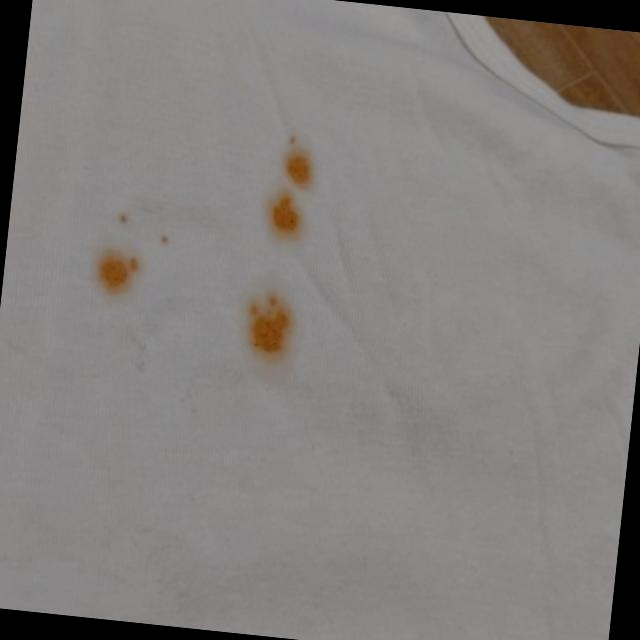kimchi: (87, 241, 152, 308), (244, 290, 297, 369), (283, 128, 325, 185), (266, 188, 307, 244), (107, 204, 136, 227), (158, 230, 184, 252)
